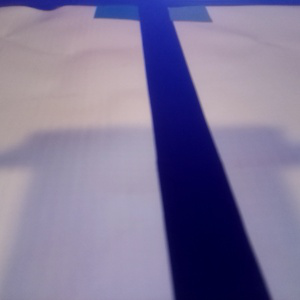bottom_left: (96, 1, 169, 21)
bottom_right: (140, 1, 211, 22)
